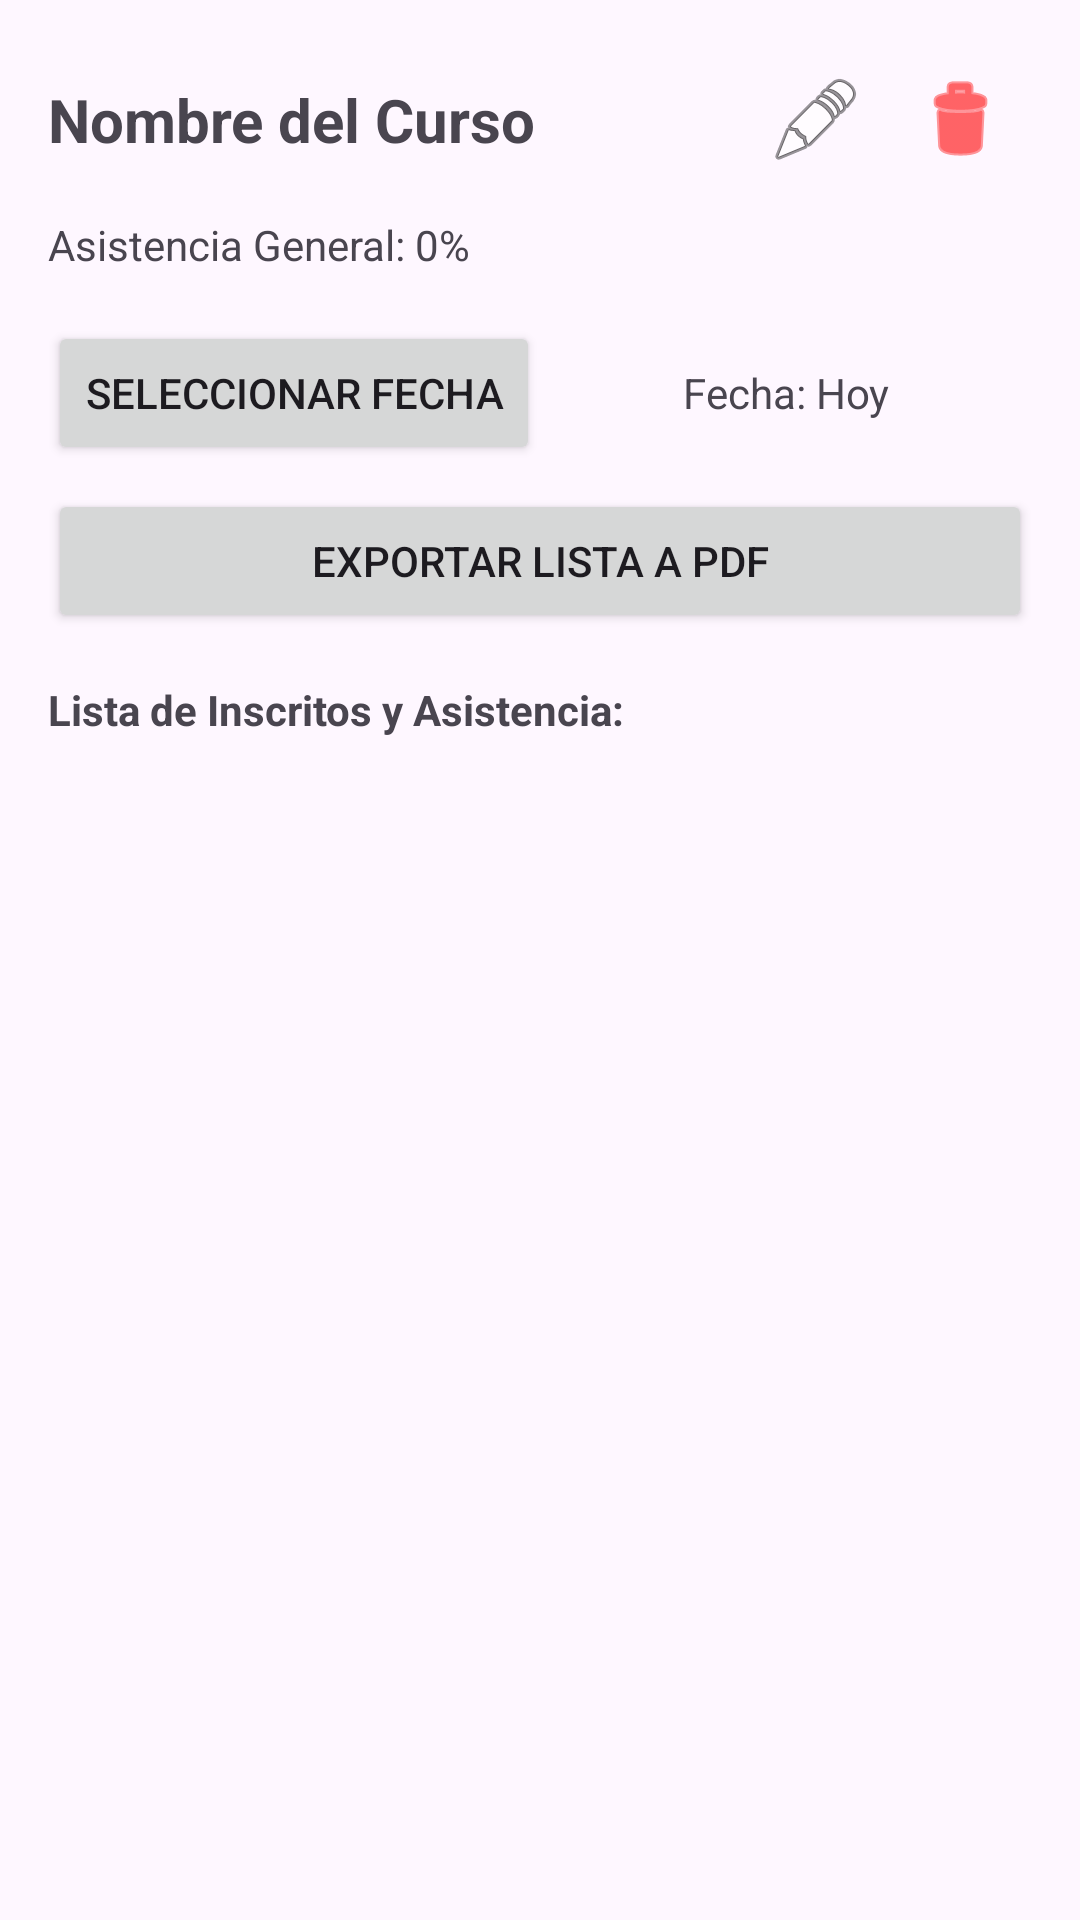

Screen size 1080*1920. Icon name, then its center in pixels as [x,y]:
Editar Curso: [815,119]
Eliminar Curso: [960,118]
